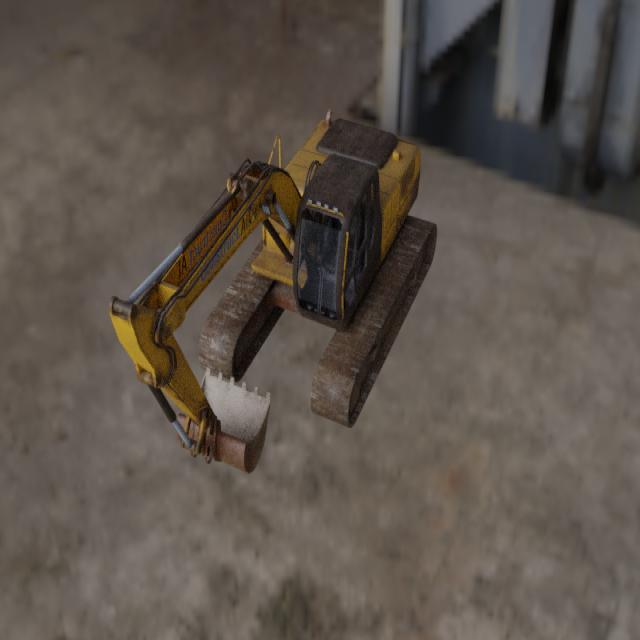excavator: (108, 108, 437, 473)
